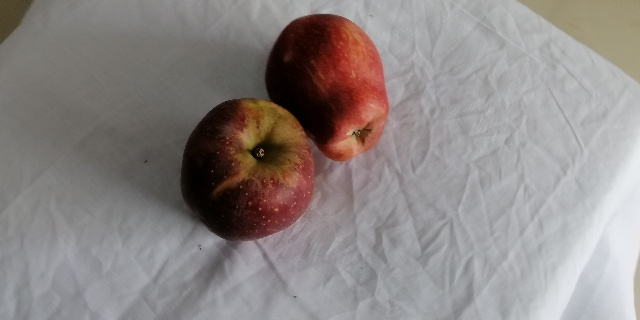apple_kashmir: (180, 95, 316, 241), (264, 13, 389, 163)
